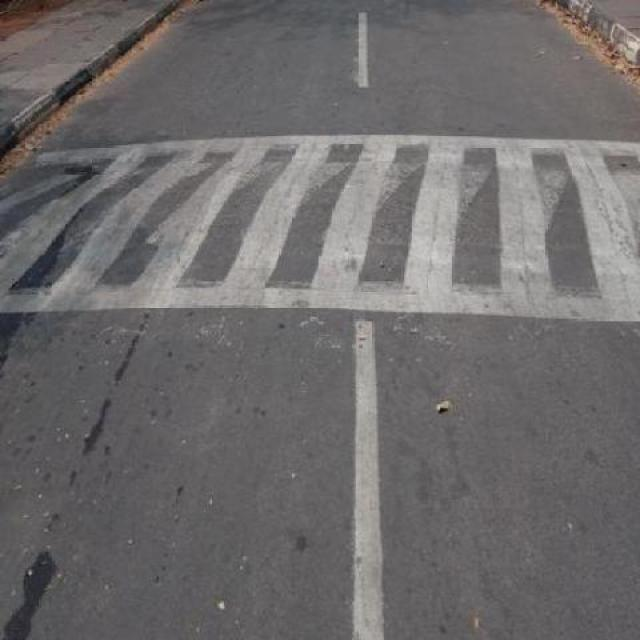Speed Bump: (1, 142, 639, 322)
